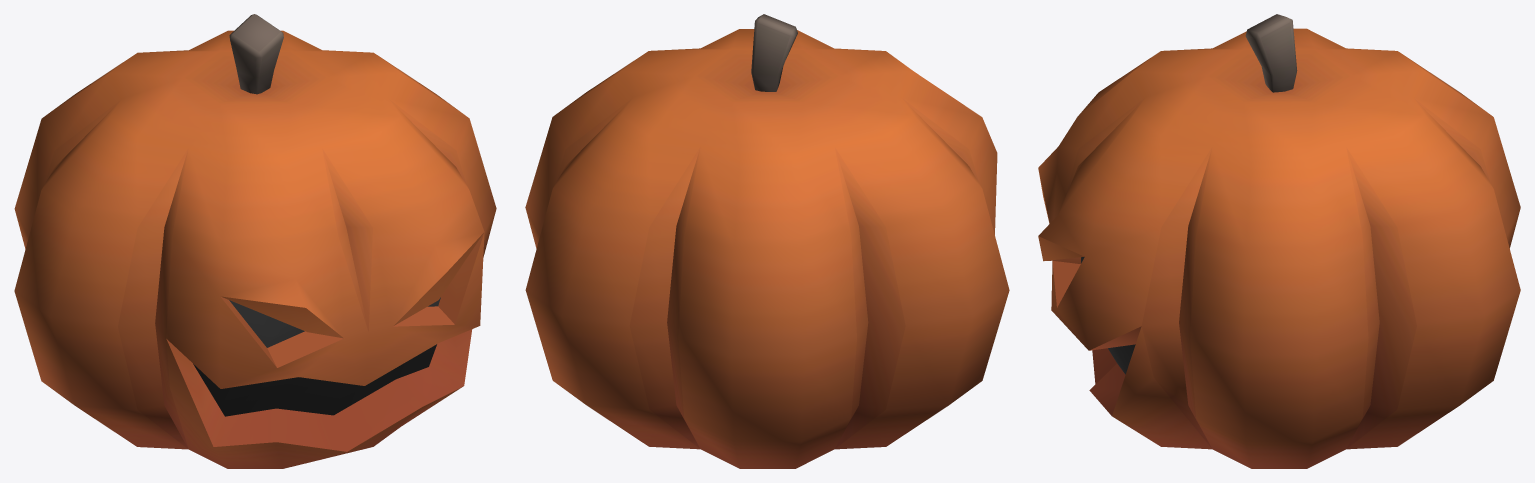
File: pumpkin.glb
3 views of the same model, side by side, from view 1: azimuth 30°, elevation 25°; view 2: azimuth 150°, elevation 25°; view 3: azimuth 270°, elevation 25° (orthographic).
Visible parts, largest first — view 1: pumpkin_orange_jackolantern; view 2: pumpkin_orange_jackolantern; view 3: pumpkin_orange_jackolantern.
Boxes of the visible parts, <box> form: pumpkin_orange_jackolantern: <box>14,14,496,468</box>; pumpkin_orange_jackolantern: <box>525,14,1009,468</box>; pumpkin_orange_jackolantern: <box>1038,14,1520,468</box>.
Bounding box in the file's own units: 1.5 × 1.3 × 1.4.
Materials: 1 (1 with a texture image).
